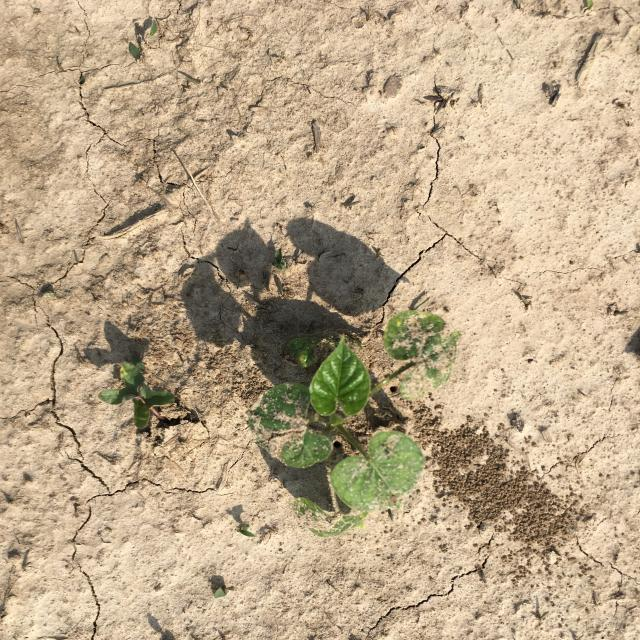MorningGlory: (247, 311, 465, 538), (98, 361, 176, 429)
